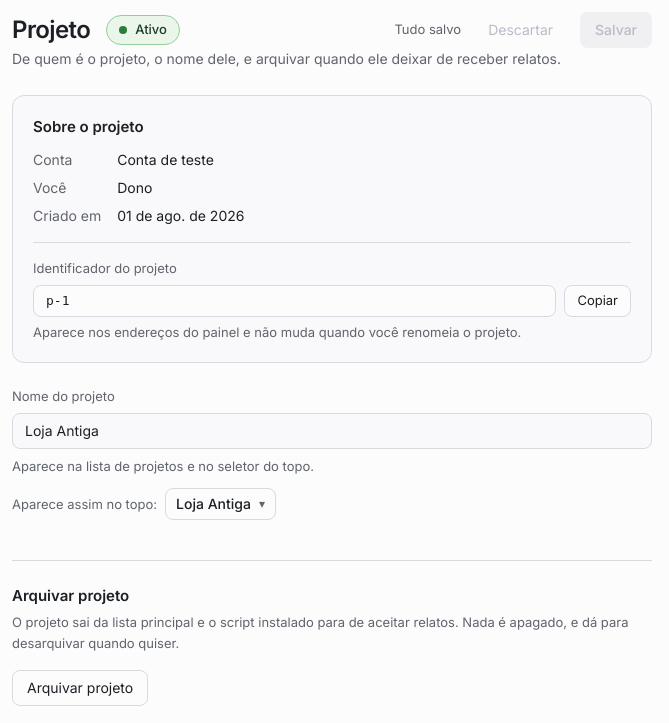
Test: ProjectSettingsScreen › mostra o erro do servidor no campo, e nao num aviso que some
Replace the text in the field labelled "Nome do projeto" with "Loja Nova" at (332, 431), box [12,413,652,449]
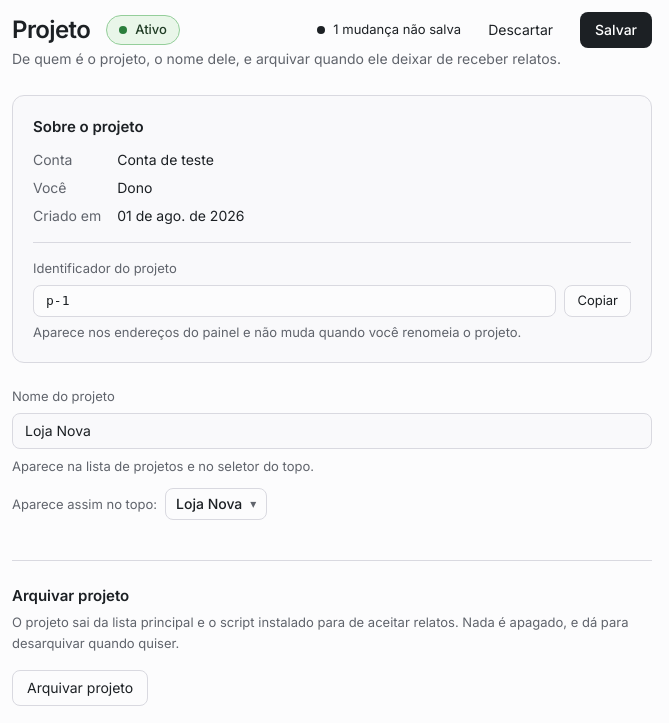
Click the button "Salvar" at (616, 30), box [580,12,652,48]
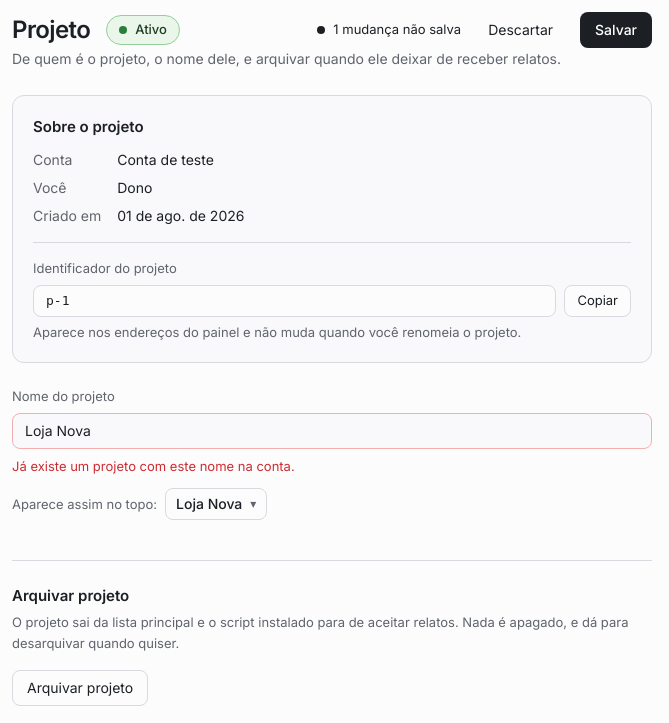
Result: the text "Já existe um projeto com este nome na conta." is shown at [12,458,295,474]
